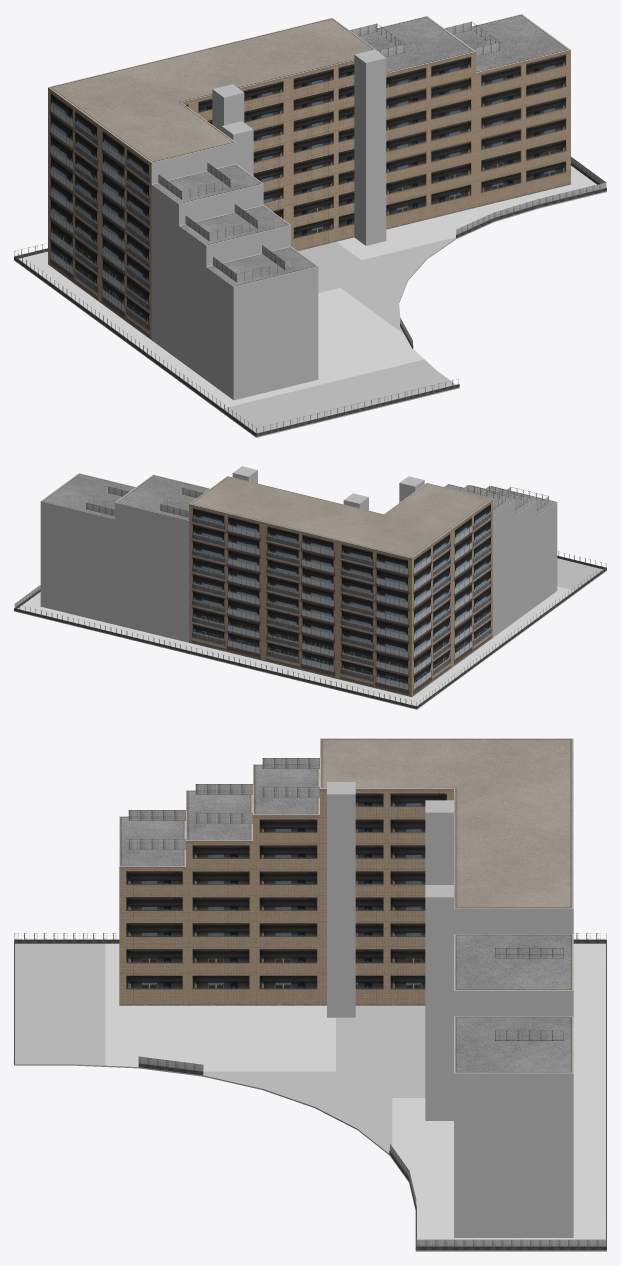
File: Apartment_curve_mirror.fbx
3 renders of one model, top to bottom at view 1: azimuth 30°, elevation 25°; view 2: azimuth 150°, elevation 25°; view 3: azimuth 270°, elevation 25°, orthographic. The views are drawn at different scales.
Visible parts, largest first — view 1: 100_apartment_curve, 004_ground_turf, 001_ground, 030_fence, 121_terrace_fence.004, 121_terrace_fence.003, 121_terrace_fence.002; view 2: 100_apartment_curve, 004_ground_turf, 030_fence, 001_ground, 121_terrace_fence, 121_terrace_fence.001; view 3: 100_apartment_curve, 004_ground_turf, 001_ground, 030_fence, 121_terrace_fence.002, 121_terrace_fence.003, 121_terrace_fence.004.
Part boxes in pixels (box(x1,y1,x2,y2)): 100_apartment_curve: box(48, 14, 570, 400); 004_ground_turf: box(19, 166, 596, 408); 001_ground: box(14, 191, 606, 437); 030_fence: box(14, 157, 606, 436); 121_terrace_fence.004: box(213, 245, 285, 282); 121_terrace_fence.003: box(185, 204, 257, 240); 121_terrace_fence.002: box(158, 162, 230, 199); 100_apartment_curve: box(40, 466, 557, 696); 004_ground_turf: box(17, 586, 574, 705); 030_fence: box(14, 551, 606, 708); 001_ground: box(14, 558, 606, 709); 121_terrace_fence: box(160, 488, 203, 517); 121_terrace_fence.001: box(86, 486, 129, 516); 100_apartment_curve: box(119, 738, 573, 1237); 004_ground_turf: box(105, 943, 605, 1239); 001_ground: box(14, 943, 606, 1251); 030_fence: box(14, 933, 606, 1250); 121_terrace_fence.002: box(262, 758, 319, 797); 121_terrace_fence.003: box(195, 784, 252, 823); 121_terrace_fence.004: box(128, 810, 185, 849).
Size of the model in its own units: 76 by 25.95 by 62.
